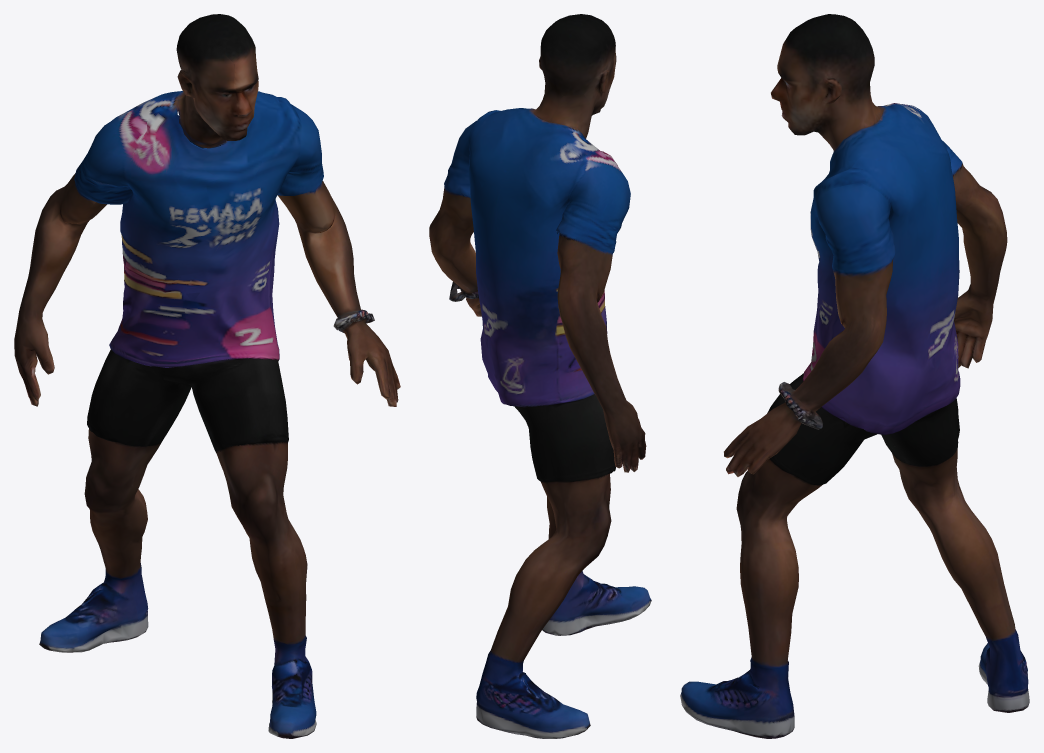
The model's file is half_4_idle.glb.
3 views of the same model, side by side, from view 1: azimuth 30°, elevation 25°; view 2: azimuth 150°, elevation 25°; view 3: azimuth 270°, elevation 25° (orthographic). The views are drawn at different scales.
Visible parts, largest first — view 1: Idle; view 2: Idle; view 3: Idle.
Boxes of the visible parts, <box> form: Idle: <box>14,14,400,738</box>; Idle: <box>429,14,651,738</box>; Idle: <box>680,14,1029,738</box>.
Size of the model in its own units: 39.45 by 92.35 by 42.23.
Materials: 1 (1 with a texture image).
